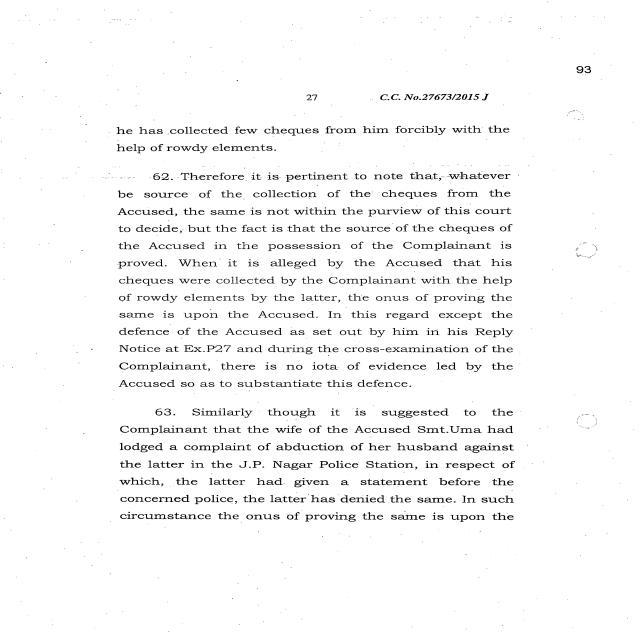page-number: (488, 28, 638, 108)
